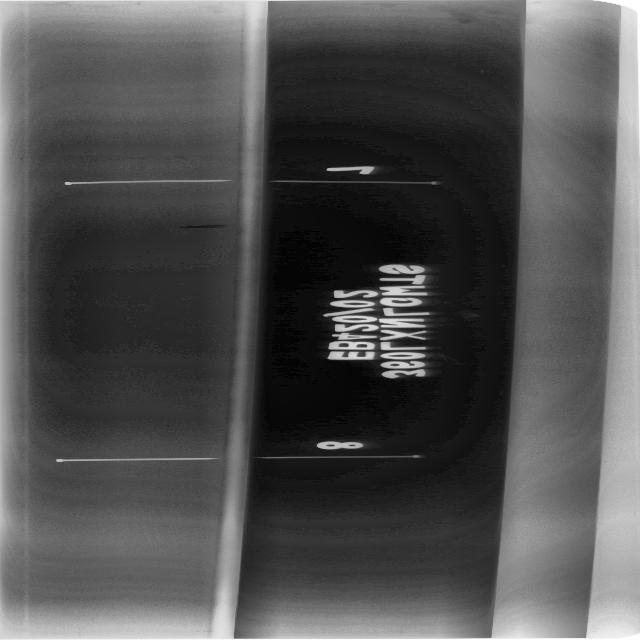porosity: (242, 223, 252, 226)
